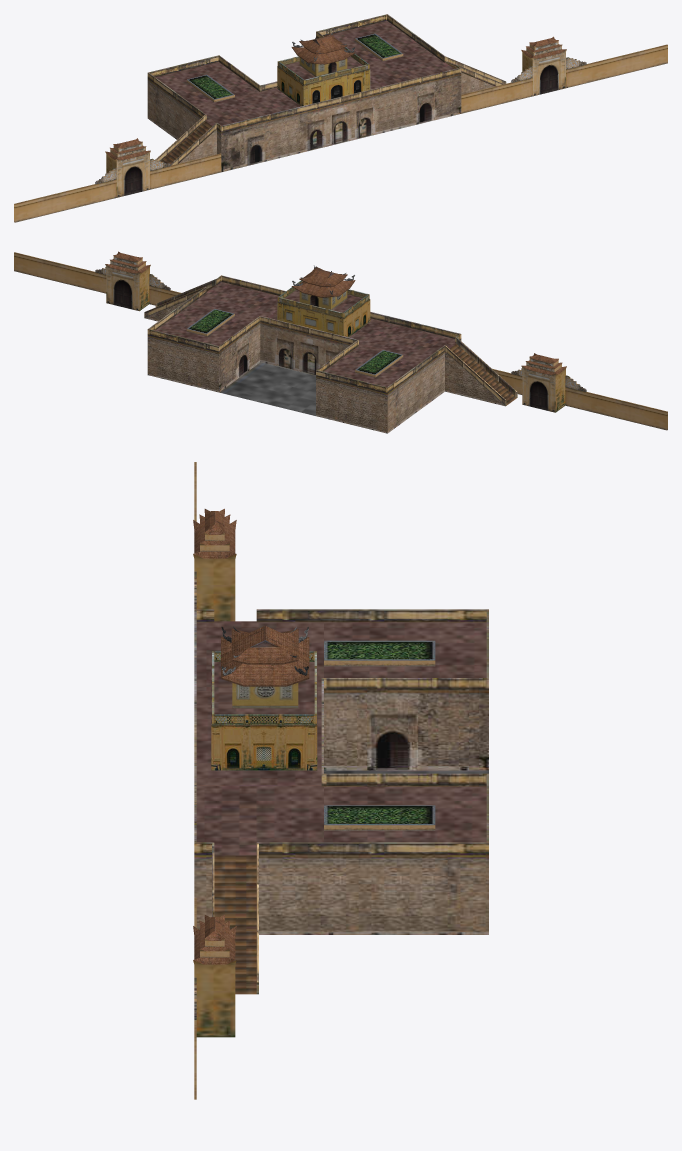
3 renders of one model, top to bottom at view 1: azimuth 30°, elevation 25°; view 2: azimuth 150°, elevation 25°; view 3: azimuth 270°, elevation 25°, orthographic. The views are drawn at different scales.
Parts seen in each view (by area): view 1: 5dcbce6cebc4ea04601fedd0; view 2: 5dcbce6cebc4ea04601fedd0; view 3: 5dcbce6cebc4ea04601fedd0.
Part boxes in pixels (<box>): 5dcbce6cebc4ea04601fedd0: <box>14,14,667,222</box>; 5dcbce6cebc4ea04601fedd0: <box>14,251,667,433</box>; 5dcbce6cebc4ea04601fedd0: <box>193,462,488,1099</box>.
Bounding box in the file's own units: 128 × 17.67 × 25.1.
1 material, 1 textured.
